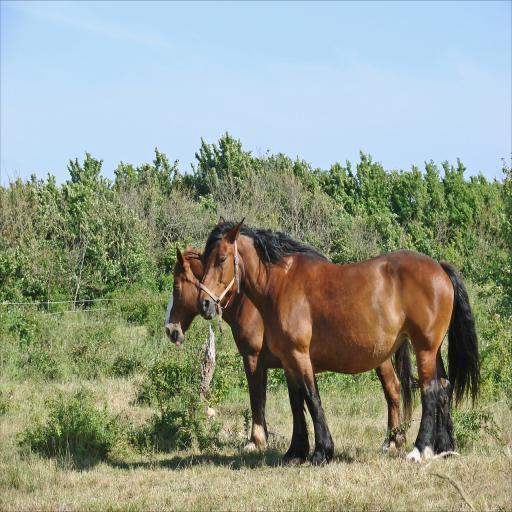horse: (164, 244, 418, 452)
